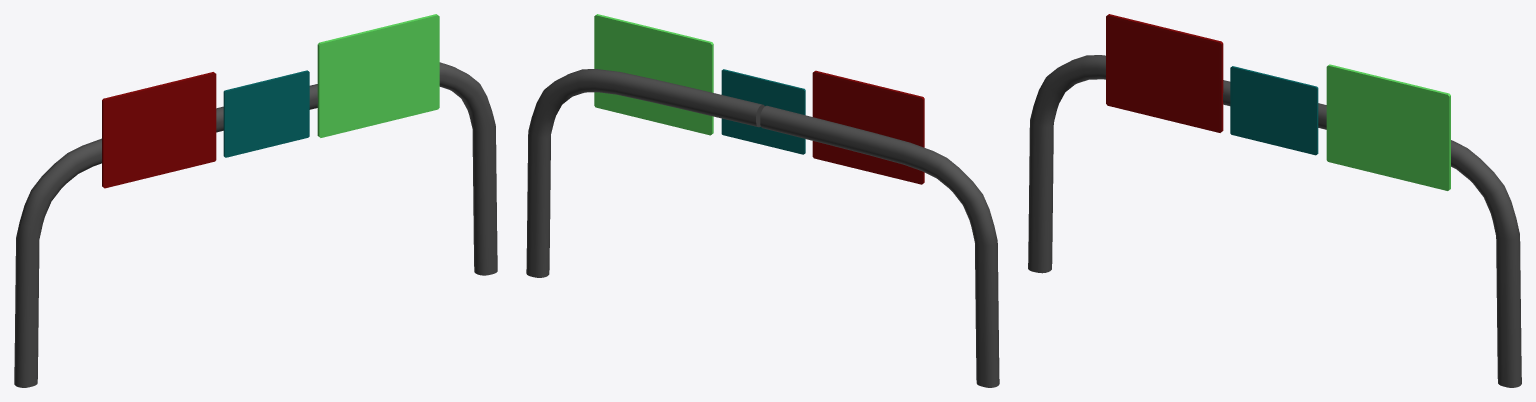
Rendered from Highway_ArchwaySigns.fbx.
3 views of the same model, side by side, from view 1: azimuth 30°, elevation 25°; view 2: azimuth 150°, elevation 25°; view 3: azimuth 330°, elevation 25° (orthographic). The views are drawn at different scales.
Visible parts, largest first — view 1: Sign7, Sign1, Pole1, Sign6, Pole2; view 2: Pole1, Pole2, Sign7, Sign1, Sign6; view 3: Sign7, Sign1, Pole2, Pole1, Sign6.
Boxes of the visible parts, x1=… form: Sign7: x1=317, y1=14, x2=439, y2=137; Sign1: x1=102, y1=72, x2=216, y2=188; Pole1: x1=14, y1=106, x2=223, y2=387; Sign6: x1=223, y1=70, x2=309, y2=157; Pole2: x1=309, y1=62, x2=497, y2=275; Pole1: x1=760, y1=105, x2=999, y2=387; Pole2: x1=526, y1=69, x2=764, y2=277; Sign7: x1=594, y1=14, x2=713, y2=135; Sign1: x1=812, y1=70, x2=924, y2=184; Sign6: x1=721, y1=69, x2=805, y2=154; Sign7: x1=1326, y1=64, x2=1450, y2=190; Sign1: x1=1106, y1=14, x2=1223, y2=132; Pole2: x1=1318, y1=103, x2=1521, y2=387; Pole1: x1=1028, y1=55, x2=1230, y2=273; Sign6: x1=1230, y1=66, x2=1318, y2=155.
Bounding box in the file's own units: 23.27 × 12.67 × 0.9587.
